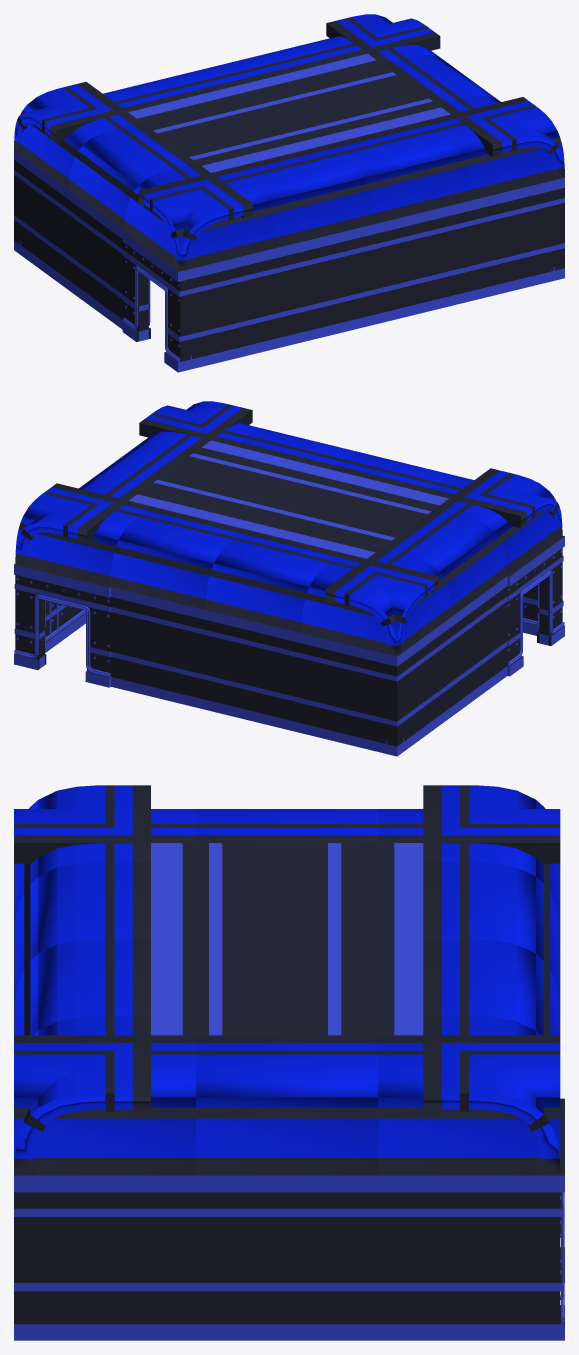
Rendered from Bedroom Collection.fbx.
3 renders of one model, top to bottom at view 1: azimuth 30°, elevation 25°; view 2: azimuth 150°, elevation 25°; view 3: azimuth 270°, elevation 25°, orthographic. The views are drawn at different scales.
Visible parts, largest first — view 1: Bedroom.954, Bedroom.985, Bedroom.300, Bedroom.362, Bedroom.269, Bedroom.838, Bedroom.896, Bedroom.331, Bedroom.606, Bedroom.780, Bedroom.751, Bedroom.156 (+13 smaller); view 2: Bedroom.954, Bedroom.985, Bedroom.089, Bedroom.395, Bedroom.058, Bedroom.925, Bedroom.867, Bedroom.693, Bedroom.780, Bedroom, Bedroom.122, Bedroom.156 (+16 smaller); view 3: Bedroom.508, Bedroom.539, Bedroom.572, Bedroom.954, Bedroom.985, Bedroom.809, Bedroom.029, Bedroom.722, Bedroom.867, Bedroom.838, Bedroom.925, Bedroom.896 (+8 smaller).
Part boxes in pixels (box(x1,y1,x2,y2)): Bedroom.954: box(248, 53, 450, 143); Bedroom.985: box(128, 83, 330, 172); Bedroom.300: box(276, 224, 372, 348); Bedroom.362: box(372, 201, 468, 324); Bedroom.269: box(175, 248, 276, 368); Bedroom.838: box(235, 144, 372, 247); Bedroom.896: box(331, 120, 468, 224); Bedroom.331: box(469, 180, 555, 301); Bedroom.606: box(138, 167, 276, 270); Bedroom.780: box(69, 122, 196, 230); Bedroom.751: box(427, 97, 564, 200); Bedroom.156: box(69, 190, 124, 329); Bedroom.954: box(129, 440, 329, 529); Bedroom.985: box(248, 469, 448, 558); Bedroom.089: box(206, 610, 301, 733); Bedroom.395: box(111, 587, 206, 709); Bedroom.058: box(301, 633, 403, 756); Bedroom.925: box(111, 506, 247, 609); Bedroom.867: box(206, 530, 342, 633); Bedroom.693: box(301, 553, 438, 656); Bedroom.780: box(381, 508, 507, 615); Bedroom: box(15, 483, 151, 586); Bedroom.122: box(385, 617, 452, 756); Bedroom.156: box(452, 576, 507, 715); Bedroom.508: box(196, 1175, 378, 1340); Bedroom.539: box(378, 1175, 560, 1340); Bedroom.572: box(14, 1175, 195, 1340); Bedroom.954: box(151, 939, 423, 1035); Bedroom.985: box(151, 843, 423, 939); Bedroom.809: box(196, 1035, 378, 1175); Bedroom.029: box(378, 1035, 560, 1175); Bedroom.722: box(14, 1035, 195, 1175); Bedroom.867: box(423, 862, 560, 1013); Bedroom.838: box(14, 862, 150, 1016); Bedroom.925: box(423, 939, 560, 1035); Bedroom.896: box(14, 939, 150, 1035).
Bounding box in the file's own units: 805 × 300 × 605.
